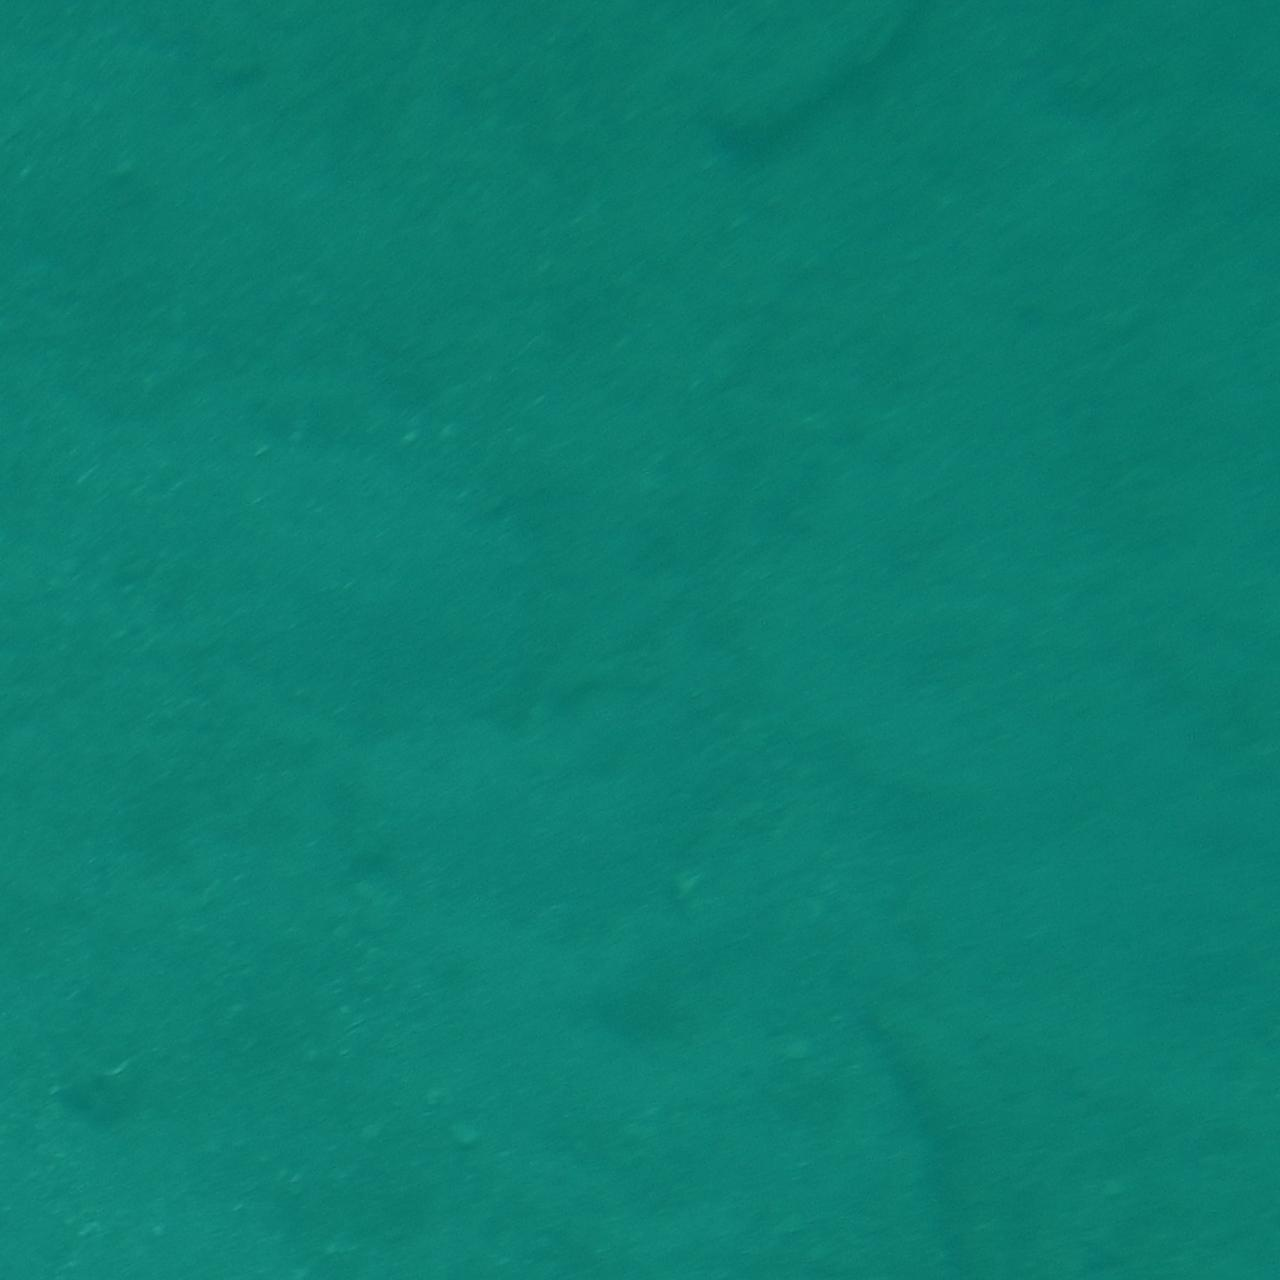Holothuria tubulosa: (720, 1, 951, 181)
